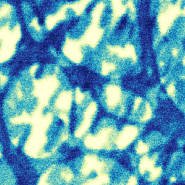hole_filled: (1, 59, 76, 160), (147, 10, 185, 122), (90, 78, 155, 123), (78, 115, 148, 155)
